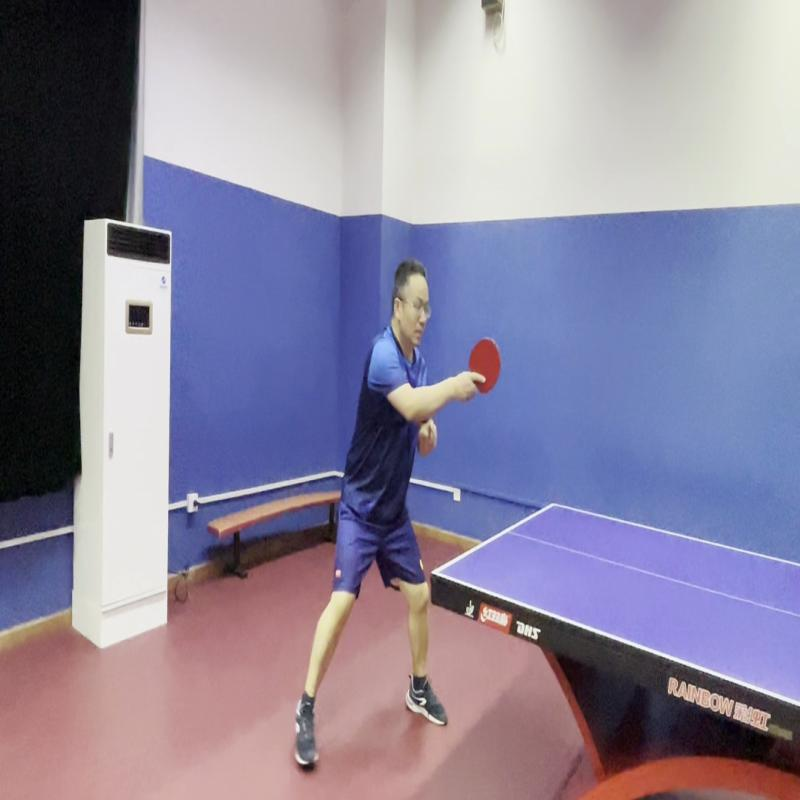bats: (465, 330, 506, 408)
